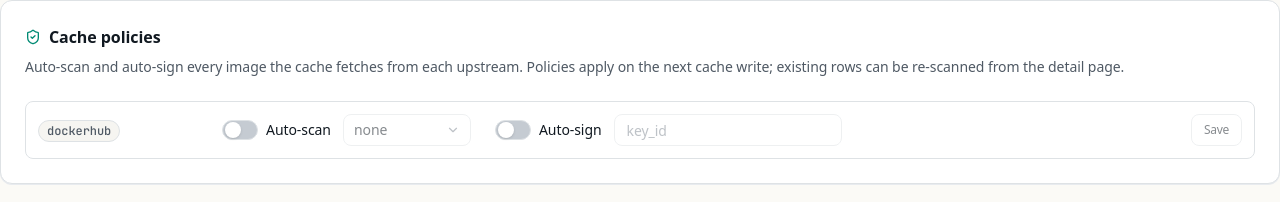
Scenario: UpstreamPoliciesCard — save behaviour › enables Save once a key_id is provided alongside auto_sign
The width and height of the screenshot is (1280, 202).
Step 1. Click the switch named "Auto-sign for dockerhub" → click(513, 130), box [495, 120, 531, 140]
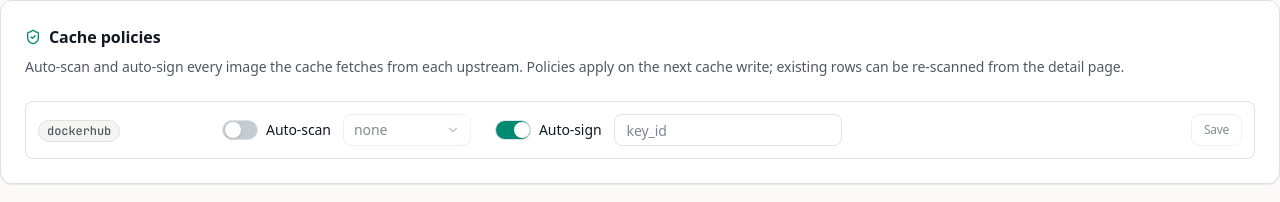
Step 2. Type "prod-key-1" into the field named "Signing key for dockerhub" → (728, 130), box [614, 114, 842, 146]
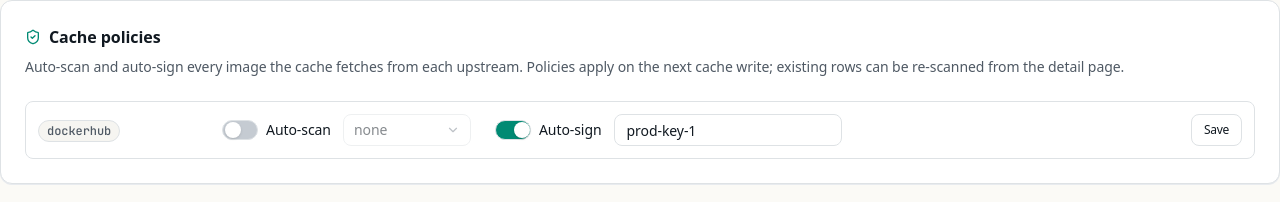
Now the button with test id "save-dockerhub" is enabled, box [1191, 114, 1242, 146]
